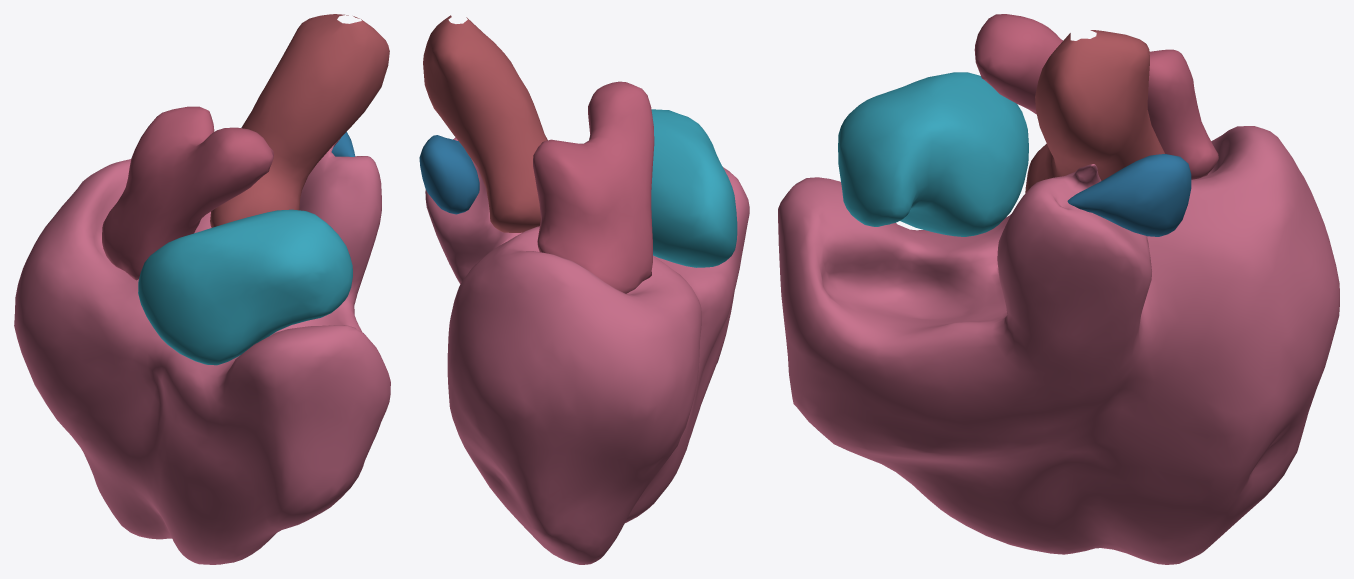
The model's file is frame_9.glb.
3 renders of one model, left to right at view 1: azimuth 30°, elevation 25°; view 2: azimuth 150°, elevation 25°; view 3: azimuth 270°, elevation 25°, orthographic. The views are drawn at different scales.
Visible parts, largest first — view 1: Renderer Node; view 2: Renderer Node; view 3: Renderer Node.
Boxes of the visible parts, <box> form: Renderer Node: <box>14,14,390,564</box>; Renderer Node: <box>419,15,749,564</box>; Renderer Node: <box>778,14,1339,564</box>.
Size of the model in its own units: 102 by 158 by 129.
